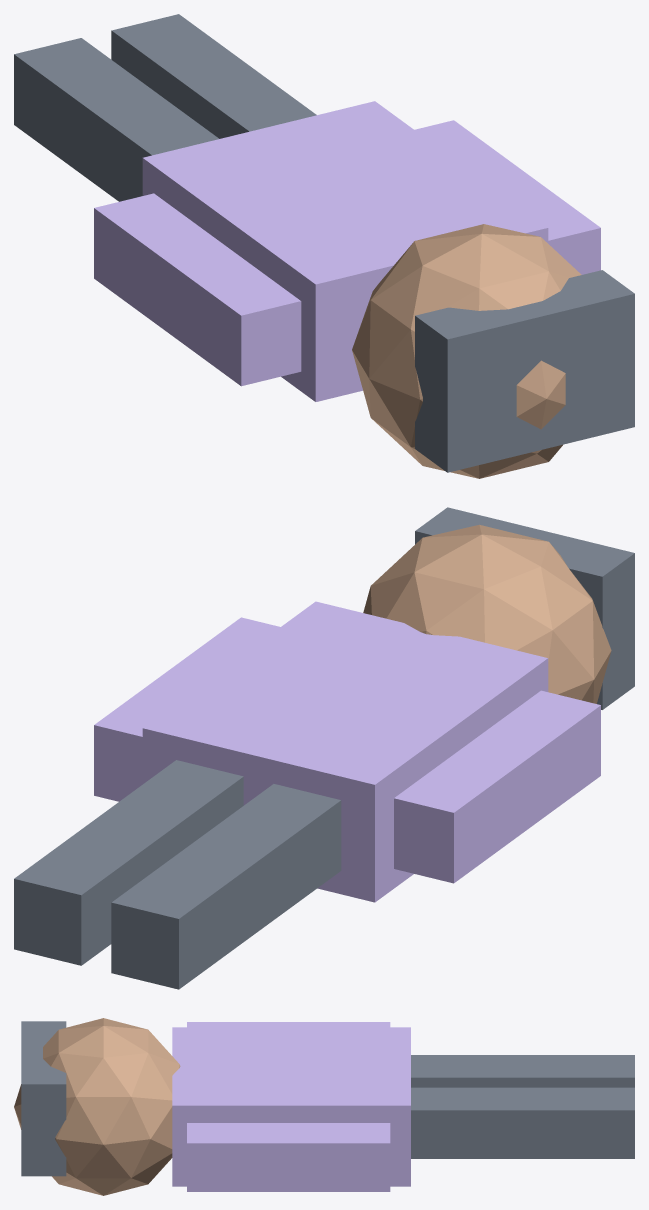
File: manager_variant_3.glb
The picture shows the model from 3 angles, top to bottom: view 1: azimuth 30°, elevation 25°; view 2: azimuth 150°, elevation 25°; view 3: azimuth 270°, elevation 25°; orthographic projection. The views are drawn at different scales.
Parts seen in each view (by area): view 1: torso_2, hair_6, head_5, arm_l_3, leg_l_0, leg_r_1, arm_r_4; view 2: torso_2, leg_l_0, head_5, arm_l_3, leg_r_1, arm_r_4, hair_6; view 3: torso_2, head_5, leg_r_1, arm_r_4, leg_l_0, hair_6, arm_l_3.
Boxes of the visible parts, x1,y1,x2,y2 form: torso_2: [142, 101, 548, 401]; hair_6: [415, 270, 634, 472]; head_5: [352, 224, 581, 478]; arm_l_3: [94, 193, 301, 386]; leg_l_0: [14, 38, 218, 201]; leg_r_1: [111, 14, 316, 138]; arm_r_4: [414, 120, 600, 274]; torso_2: [142, 601, 548, 902]; leg_l_0: [111, 784, 341, 989]; head_5: [363, 524, 611, 703]; arm_l_3: [394, 690, 600, 883]; leg_r_1: [14, 760, 243, 965]; arm_r_4: [94, 617, 280, 801]; hair_6: [415, 507, 634, 709]; torso_2: [172, 1027, 410, 1186]; head_5: [14, 1018, 180, 1195]; leg_r_1: [411, 1087, 634, 1158]; arm_r_4: [187, 1123, 390, 1191]; leg_l_0: [411, 1055, 634, 1087]; hair_6: [21, 1021, 66, 1176]; arm_l_3: [187, 1022, 390, 1027].
Bounding box in the file's own units: 0.96 × 0.6 × 2.08.
